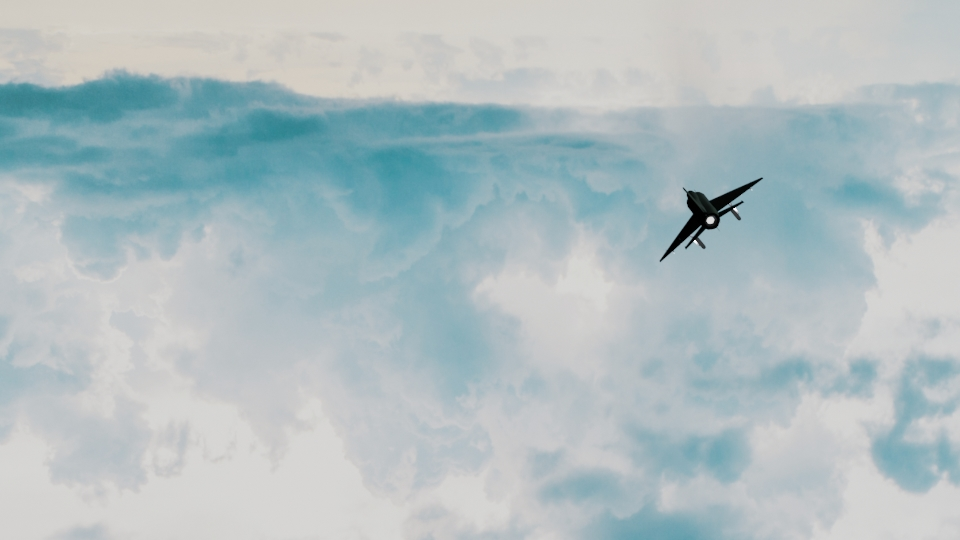plane: (656, 175, 762, 262)
